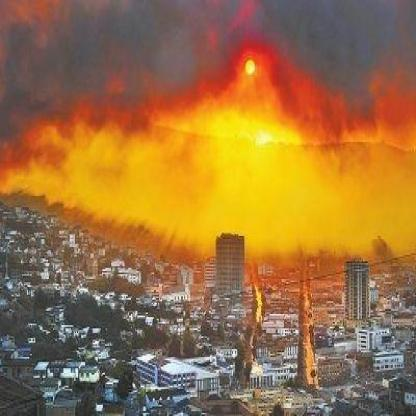other: (238, 45, 263, 86)
smoke: (2, 84, 412, 262)
